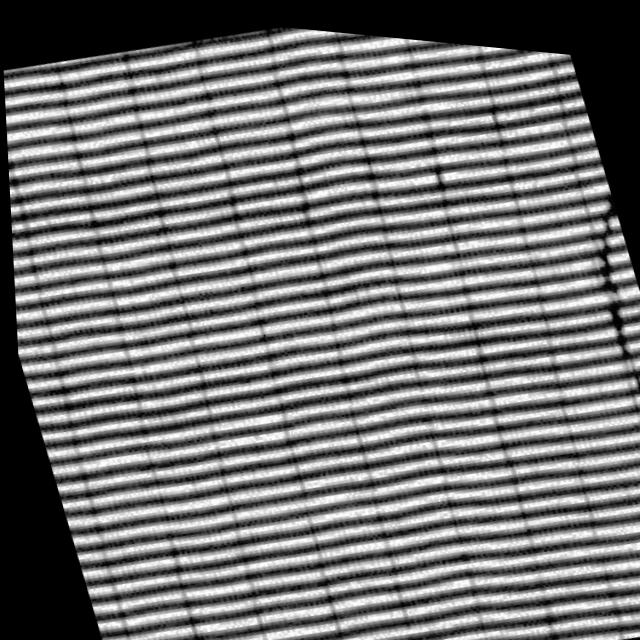Stitch: (519, 69, 640, 451)
